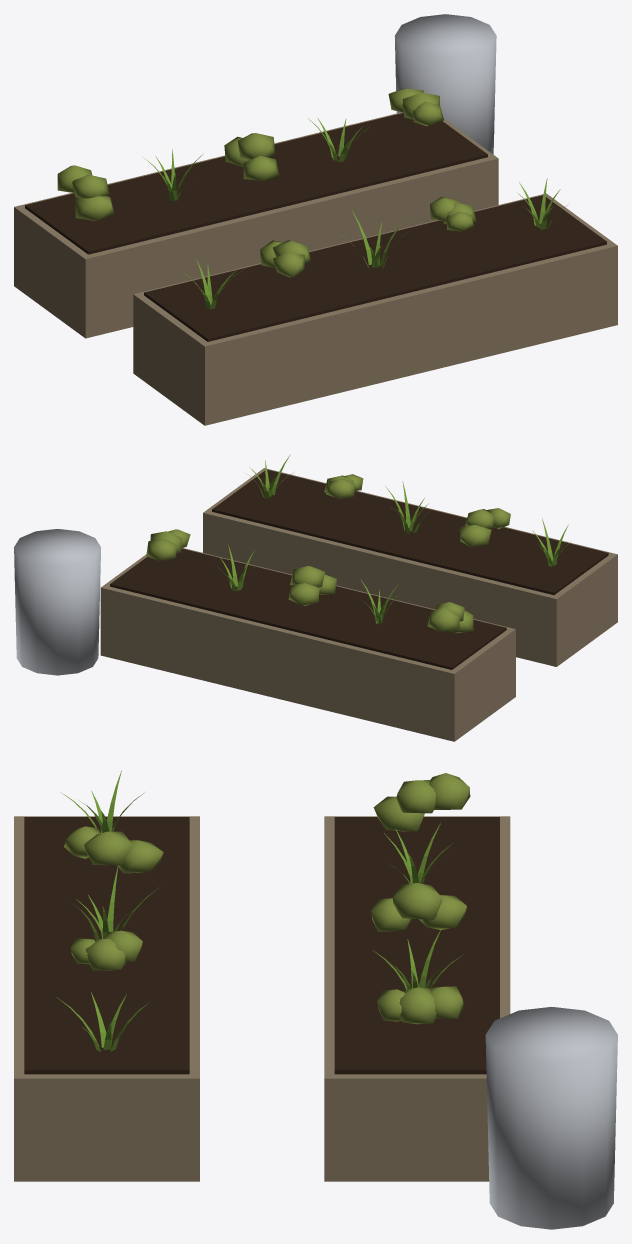
Rendered from city_raised_beds.glb.
The picture shows the model from 3 angles, top to bottom: view 1: azimuth 30°, elevation 25°; view 2: azimuth 150°, elevation 25°; view 3: azimuth 270°, elevation 25°; orthographic projection. The views are drawn at different scales.
Visible parts, largest first — view 1: CityRaisedBeds_Bed0, CityRaisedBeds_Bed1, CityRaisedBeds_Soil0, CityRaisedBeds_Soil1, CityRaisedBeds_Butt, CityRaisedBeds_Crop10, CityRaisedBeds_Crop12, CityRaisedBeds_Crop14, CityRaisedBeds_Crop01, CityRaisedBeds_Crop03, CityRaisedBeds_Crop02; view 2: CityRaisedBeds_Bed1, CityRaisedBeds_Bed0, CityRaisedBeds_Soil0, CityRaisedBeds_Soil1, CityRaisedBeds_Butt, CityRaisedBeds_Crop12, CityRaisedBeds_Crop01, CityRaisedBeds_Crop10, CityRaisedBeds_Crop14, CityRaisedBeds_Crop03, CityRaisedBeds_Crop02, CityRaisedBeds_Crop13 (+2 smaller); view 3: CityRaisedBeds_Soil0, CityRaisedBeds_Soil1, CityRaisedBeds_Butt, CityRaisedBeds_Bed0, CityRaisedBeds_Bed1, CityRaisedBeds_Crop10, CityRaisedBeds_Crop12, CityRaisedBeds_Crop01, CityRaisedBeds_Crop14, CityRaisedBeds_Crop03, CityRaisedBeds_Crop02, CityRaisedBeds_Crop04 (+3 smaller).
Boxes of the visible parts, x1,y1,x2,y2 form: CityRaisedBeds_Bed0: (133, 193, 617, 425); CityRaisedBeds_Bed1: (14, 112, 498, 338); CityRaisedBeds_Soil0: (144, 195, 606, 341); CityRaisedBeds_Soil1: (25, 113, 487, 254); CityRaisedBeds_Butt: (394, 14, 496, 154); CityRaisedBeds_Crop10: (57, 165, 114, 220); CityRaisedBeds_Crop12: (224, 133, 279, 180); CityRaisedBeds_Crop14: (388, 88, 443, 126); CityRaisedBeds_Crop01: (260, 240, 310, 277); CityRaisedBeds_Crop03: (430, 197, 476, 231); CityRaisedBeds_Crop02: (340, 210, 407, 268); CityRaisedBeds_Bed1: (100, 548, 515, 741); CityRaisedBeds_Bed0: (203, 468, 617, 666); CityRaisedBeds_Soil0: (212, 469, 608, 594); CityRaisedBeds_Soil1: (110, 548, 506, 669); CityRaisedBeds_Butt: (14, 529, 100, 675); CityRaisedBeds_Crop12: (288, 566, 336, 605); CityRaisedBeds_Crop01: (459, 508, 510, 547); CityRaisedBeds_Crop10: (427, 602, 473, 633); CityRaisedBeds_Crop14: (146, 529, 190, 561); CityRaisedBeds_Crop03: (324, 474, 363, 498); CityRaisedBeds_Crop02: (385, 481, 429, 533); CityRaisedBeds_Crop13: (219, 545, 257, 591); CityRaisedBeds_Soil0: (24, 817, 189, 1074); CityRaisedBeds_Soil1: (334, 817, 499, 1074); CityRaisedBeds_Butt: (485, 1007, 617, 1229); CityRaisedBeds_Bed0: (14, 816, 199, 1181); CityRaisedBeds_Bed1: (324, 816, 510, 1181); CityRaisedBeds_Crop10: (373, 773, 470, 831); CityRaisedBeds_Crop12: (371, 883, 466, 932); CityRaisedBeds_Crop01: (64, 826, 163, 873); CityRaisedBeds_Crop14: (377, 986, 464, 1024); CityRaisedBeds_Crop03: (70, 930, 142, 970); CityRaisedBeds_Crop02: (73, 866, 159, 939); CityRaisedBeds_Crop04: (56, 992, 149, 1051).
Bounding box in the file's own units: 3.57 × 0.9034 × 2.92.
